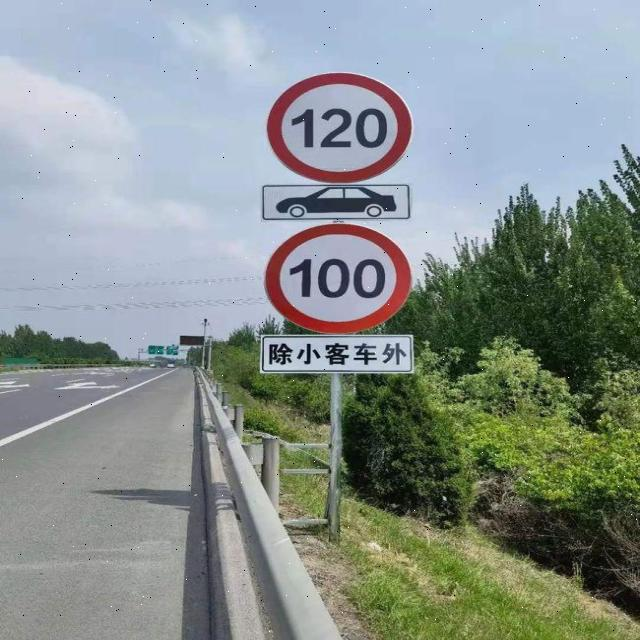speed limit 100: (262, 222, 411, 333)
speed limit 120: (265, 71, 414, 184)
